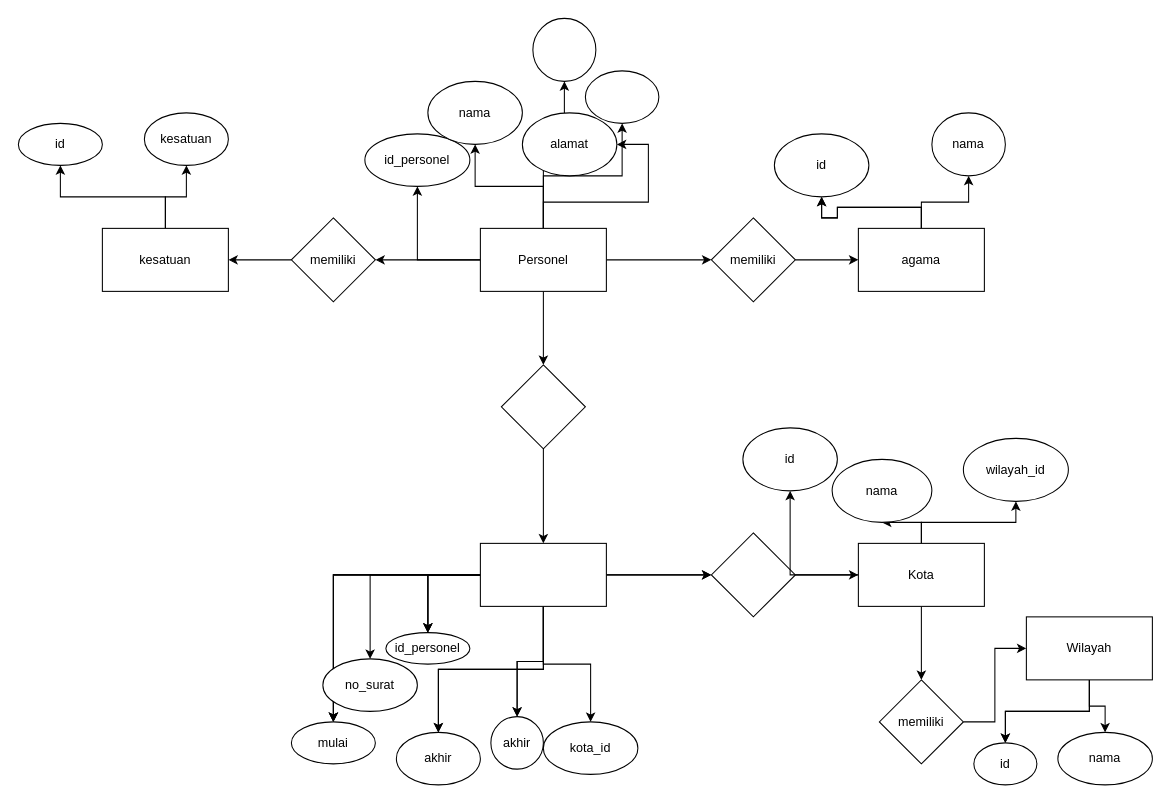
Some shapes in this 1171 by 803 pixel diagram are drawn without their labels. Each missing label, with the box of its shape:
agama_id: (532, 17, 596, 81)
kesatuan_id: (584, 70, 659, 123)
Mendapatkan: (500, 364, 585, 449)
terdapat: (710, 532, 795, 617)
Tugas: (479, 542, 606, 606)
